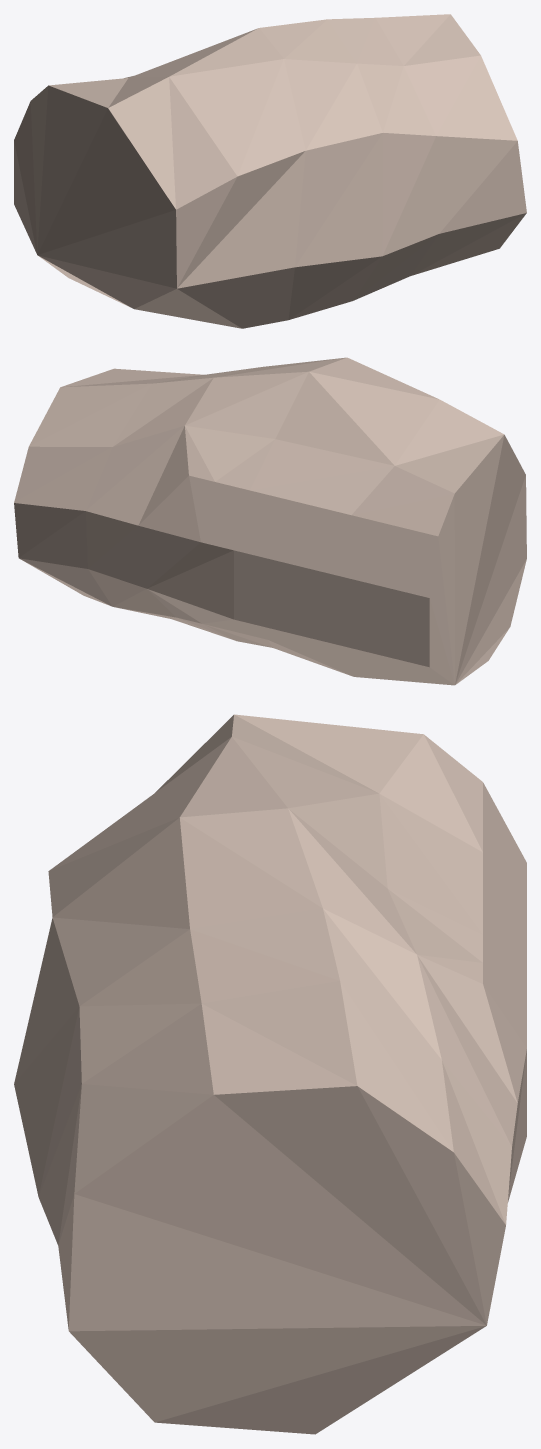
File: RThumb1stPhalange.dae
The picture shows the model from 3 angles, top to bottom: view 1: azimuth 30°, elevation 25°; view 2: azimuth 150°, elevation 25°; view 3: azimuth 270°, elevation 25°; orthographic projection. The views are drawn at different scales.
Visible parts, largest first — view 1: ShapeIndexedFaceSet; view 2: ShapeIndexedFaceSet; view 3: ShapeIndexedFaceSet.
Boxes of the visible parts, x1,y1,x2,y2 form: ShapeIndexedFaceSet: (14,14,526,328); ShapeIndexedFaceSet: (14,357,526,685); ShapeIndexedFaceSet: (14,714,526,1434).
Bounding box in the file's own units: 0.0346 × 0.0218 × 0.022.
